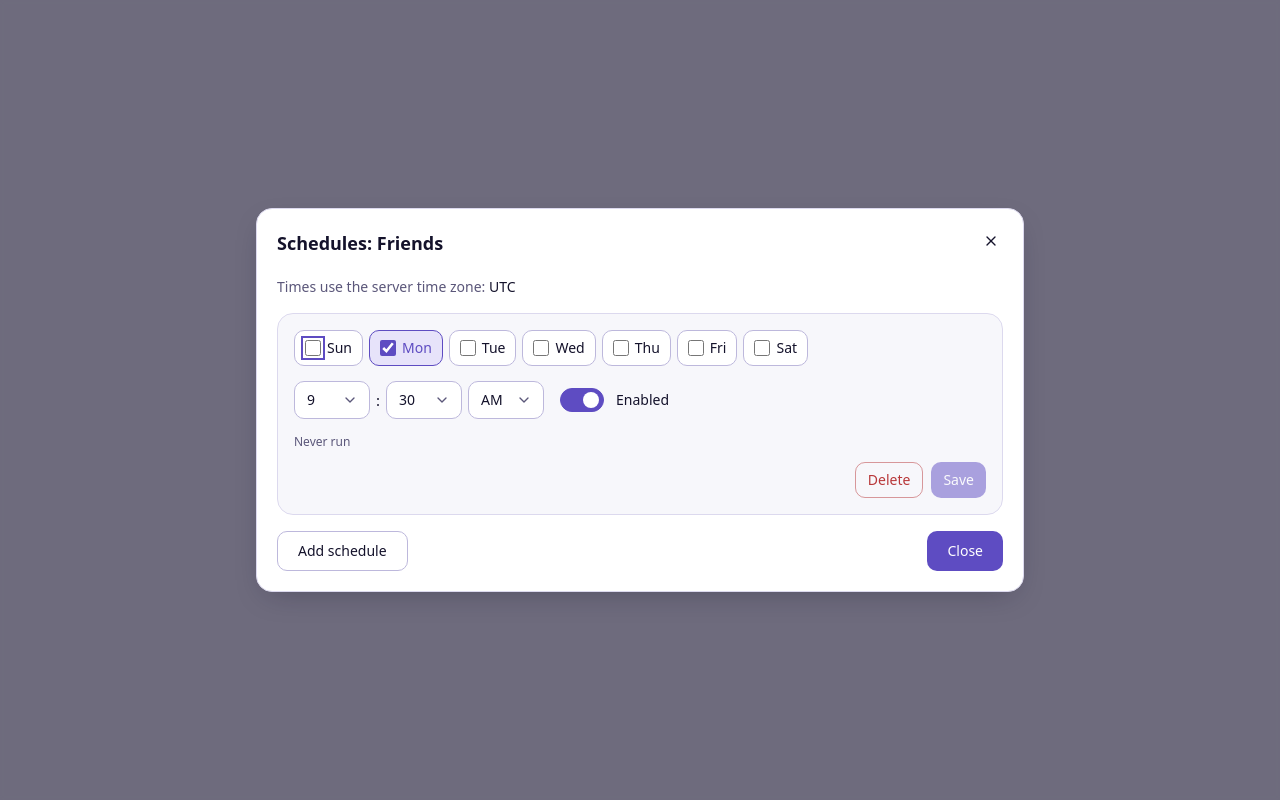
SchedulesDialog with a real SweetAlert confirm › keeps focus in the confirm instead of pulling it back into the dialog
Click the button with aria-label "Delete schedule at 9:30 AM" at (889, 480), box left=855, top=462, right=924, bottom=498
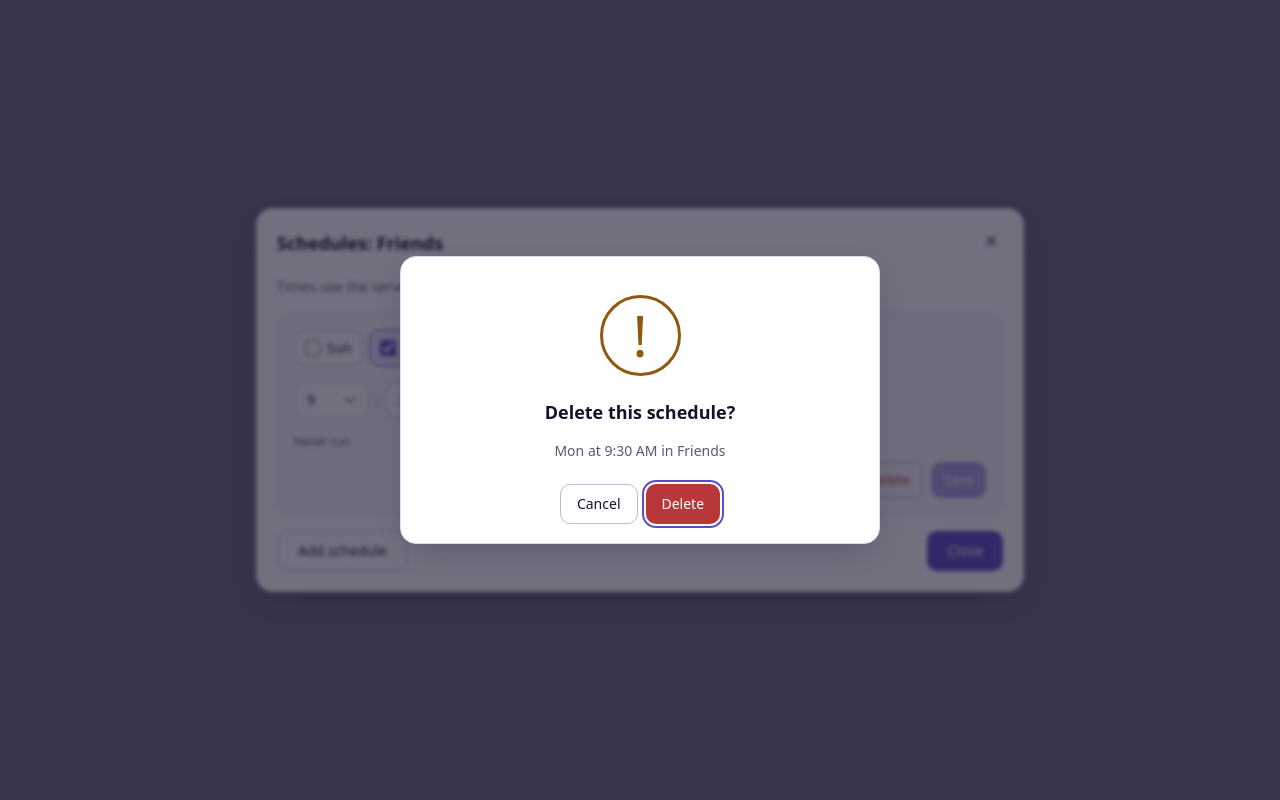
Expected: the dialog with class "swal2-popup" is shown, left=400, top=256, right=880, bottom=544
